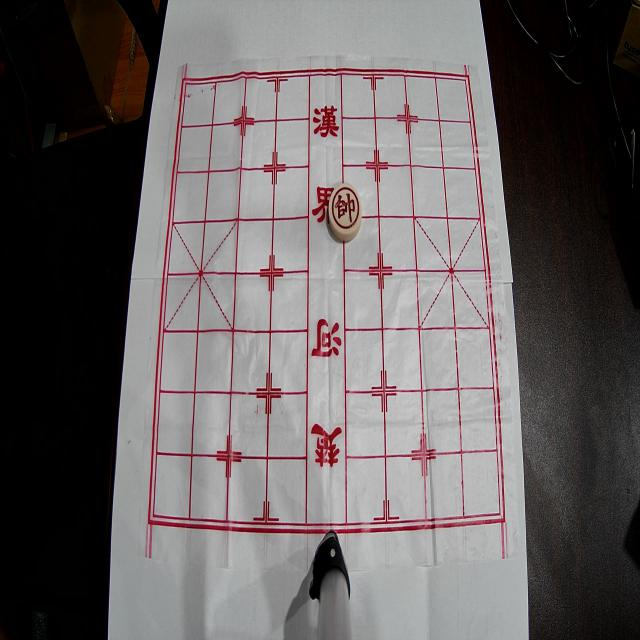red-general: (328, 183, 362, 241)
